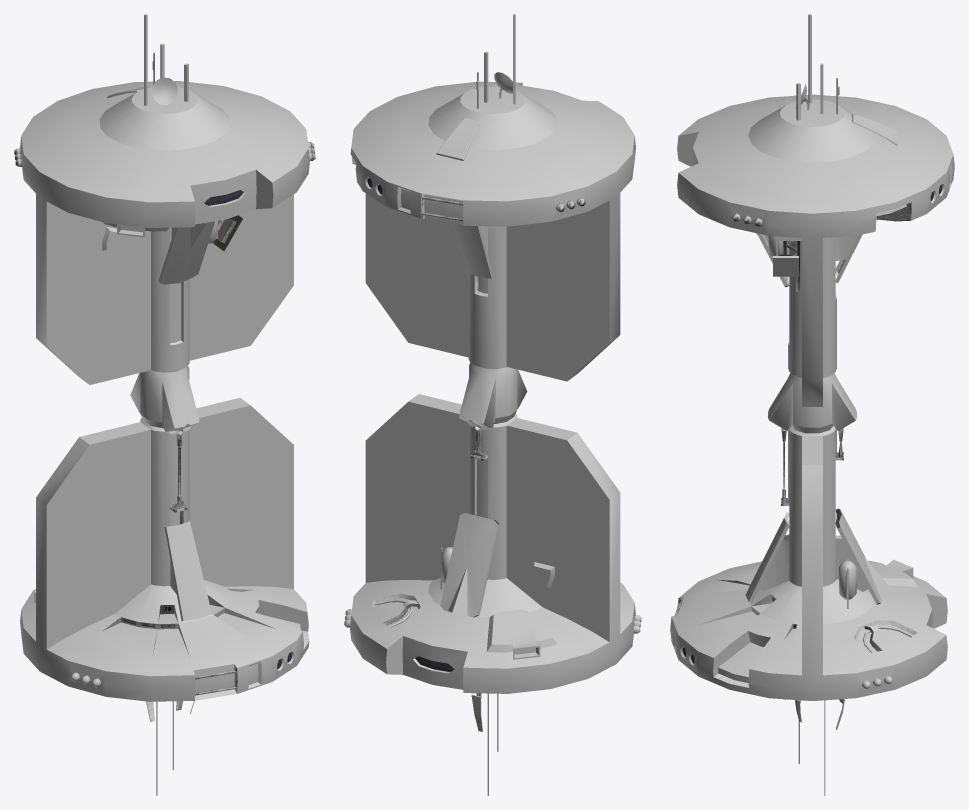
Rendered from spacestation_outpost_corsec_l1.fbx.
3 views of the same model, side by side, from view 1: azimuth 30°, elevation 25°; view 2: azimuth 150°, elevation 25°; view 3: azimuth 270°, elevation 25° (orthographic). The views are drawn at different scales.
Visible parts, largest first — view 1: mesh_node; view 2: mesh_node; view 3: mesh_node.
Boxes of the visible parts, x1,y1,x2,y2 form: mesh_node: (14, 14, 315, 795); mesh_node: (344, 14, 641, 795); mesh_node: (670, 14, 954, 795).
Size of the model in its own units: 102 by 304 by 102.
